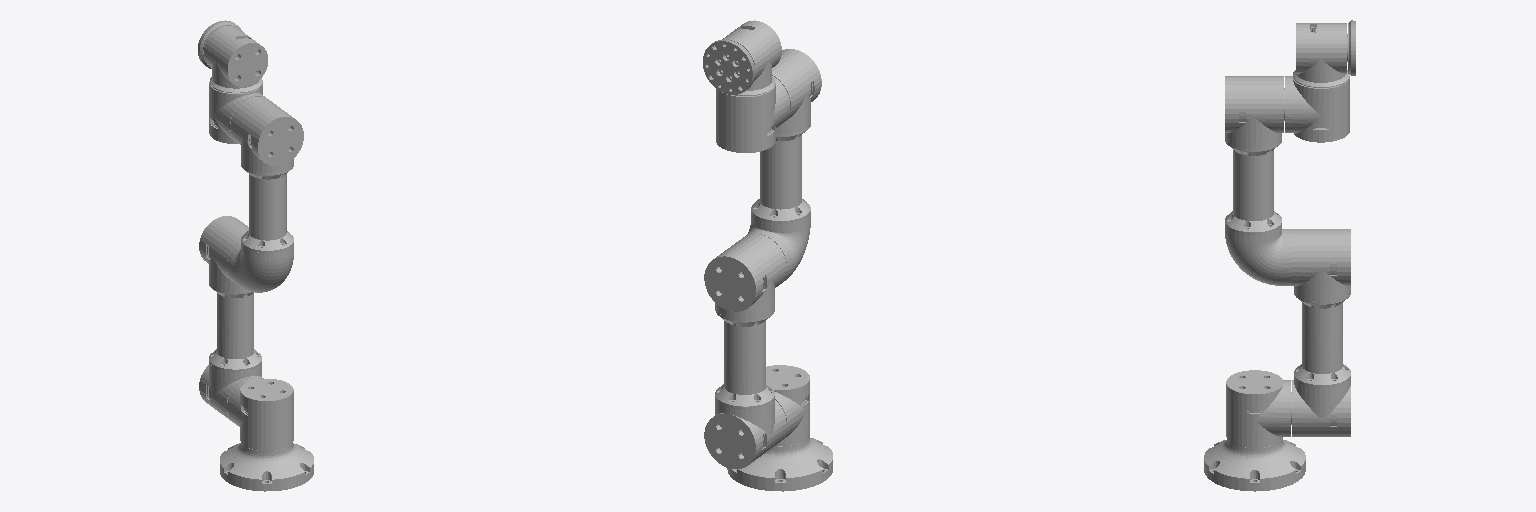
URDF robot description (EasyARM-A1):
<?xml version="1.0" encoding="utf-8"?>
<!-- This URDF was automatically created by SolidWorks to URDF Exporter! Originally created by Stephen Brawner (brawner@gmail.com) 
     Commit Version: 1.6.0-4-g7f85cfe  Build Version: 1.6.7995.38578
     For more information, please see http://wiki.ros.org/sw_urdf_exporter -->
<robot
  name="EasyARM-A1">
  <link
    name="base_link">
    <inertial>
      <origin
        xyz="2.5758E-10 -3.0493E-08 0.016711"
        rpy="0 0 0" />
      <mass
        value="0.24224" />
      <inertia
        ixx="0.00020254"
        ixy="-4.6091E-10"
        ixz="-2.9314E-13"
        iyy="0.00020254"
        iyz="4.519E-10"
        izz="0.00034674" />
    </inertial>
    <visual>
      <origin
        xyz="0 0 0"
        rpy="0 0 0" />
      <geometry>
        <mesh
          filename="../meshes/easyarm_h0521/base_link.STL" />
      </geometry>
      <material
        name="">
        <color
          rgba="0.75294 0.75294 0.75294 1" />
      </material>
    </visual>
    <collision>
      <origin
        xyz="0 0 0"
        rpy="0 0 0" />
      <geometry>
        <mesh
          filename="../meshes/easyarm_h0521/base_link.STL" />
      </geometry>
    </collision>
  </link>
  <link
    name="Link1">
    <inertial>
      <origin
        xyz="-7.21690131752495E-08 0.00511254917341276 -0.000356624091524357"
        rpy="0 0 0" />
      <mass
        value="0.216945425767562" />
      <inertia
        ixx="0.000122222116503187"
        ixy="5.53681437989864E-09"
        ixz="9.57637913979487E-12"
        iyy="0.000111674739393216"
        iyz="9.05616798141171E-06"
        izz="0.000121338206999658" />
    </inertial>
    <visual>
      <origin
        xyz="0 0 0"
        rpy="0 3.1416538 0" />
      <geometry>
        <mesh
          filename="../meshes/easyarm_h0521/Link1.STL" />
      </geometry>
      <material
        name="">
        <color
          rgba="0.752941176470588 0.752941176470588 0.752941176470588 1" />
      </material>
    </visual>
    <collision>
      <origin
        xyz="0 0 0"
        rpy="0 0 0" />
      <geometry>
        <mesh
          filename="../meshes/easyarm_h0521/Link1.STL" />
      </geometry>
    </collision>
  </link>
  <joint
    name="Joint1"
    type="revolute">
    <origin
      xyz="0 0 0.0734"
      rpy="0 3.1416538 0" />
    <parent
      link="base_link" />
    <child
      link="Link1" />
    <axis
      xyz="0 0 1" />
    <limit
      lower="-3.14"
      upper="3.14"
      effort="14"
      velocity="10.0" />
  </joint>
  <link
    name="Link2">
    <inertial>
      <origin
        xyz="-0.0900001466079373 -1.19272577925322E-10 0.000346086661850387"
        rpy="0 0 0" />
      <mass
        value="0.603194751552504" />
      <inertia
        ixx="0.000305081008734232"
        ixy="-1.14049880301079E-08"
        ixz="1.62033013066951E-09"
        iyy="0.000441332972917462"
        iyz="-3.0081989349051E-12"
        izz="0.00043974892225027" />
    </inertial>
    <visual>
      <origin
        xyz="0 0 0"
        rpy="0 0 0" />
      <geometry>
        <mesh
          filename="../meshes/easyarm_h0521/Link2.STL" />
      </geometry>
      <material
        name="">
        <color
          rgba="0.752941176470588 0.752941176470588 0.752941176470588 1" />
      </material>
    </visual>
    <collision>
      <origin
        xyz="0 0 0"
        rpy="0 0 0" />
      <geometry>
        <mesh
          filename="../meshes/easyarm_h0521/Link2.STL" />
      </geometry>
    </collision>
  </link>
  <joint
    name="Joint2"
    type="revolute">
    <origin
      xyz="0 0.073 0"
      rpy="-1.5708 -1.5708 0" />
    <parent
      link="Link1" />
    <child
      link="Link2" />
    <axis
      xyz="0 0 -1" />
    <limit
      lower="-3.14"
      upper="3.14"
      effort="14"
      velocity="10.0" />
  </joint>
  <link
    name="Link3">
    <inertial>
      <origin
        xyz="-0.105190051004392 3.55921223049727E-09 -0.0712241972170389"
        rpy="0 0 0" />
      <mass
        value="0.520405495271332" />
      <inertia
        ixx="0.000295545673533635"
        ixy="5.5014383773553E-09"
        ixz="-3.06046523464979E-05"
        iyy="0.000424271984084884"
        iyz="-7.78256962184493E-11"
        izz="0.000408163241167388" />
    </inertial>
    <visual>
      <origin
        xyz="0 0 0"
        rpy="0 0 0" />
      <geometry>
        <mesh
          filename="../meshes/easyarm_h0521/Link3.STL" />
      </geometry>
      <material
        name="">
        <color
          rgba="0.752941176470588 0.752941176470588 0.752941176470588 1" />
      </material>
    </visual>
    <collision>
      <origin
        xyz="0 0 0"
        rpy="0 0 0" />
      <geometry>
        <mesh
          filename="../meshes/easyarm_h0521/Link3.STL" />
      </geometry>
    </collision>
  </link>
  <joint
    name="Joint3"
    type="revolute">
    <origin
      xyz="-0.18 0 0"
      rpy="0 0 0" />
    <parent
      link="Link2" />
    <child
      link="Link3" />
    <axis
      xyz="0 0 1" />
    <limit
      lower="-3.14"
      upper="3.14"
      effort="14"
      velocity="10.0" />
  </joint>
  <link
    name="Link4">
    <inertial>
      <origin
        xyz="-0.000356625278989775 8.17763373892055E-08 -0.0664878530923041"
        rpy="0 0 0" />
      <mass
        value="0.216945440762847" />
      <inertia
        ixx="0.000121338182503669"
        ixy="6.65208368822259E-11"
        ixz="9.05779382020489E-06"
        iyy="0.000122222111877508"
        iyz="5.52779112970944E-09"
        izz="0.000111674732516474" />
    </inertial>
    <visual>
      <origin
        xyz="0 0 0"
        rpy="0 0 0" />
      <geometry>
        <mesh
          filename="../meshes/easyarm_h0521/Link4.STL" />
      </geometry>
      <material
        name="">
        <color
          rgba="0.752941176470588 0.752941176470588 0.752941176470588 1" />
      </material>
    </visual>
    <collision>
      <origin
        xyz="0 0 0"
        rpy="0 0 0" />
      <geometry>
        <mesh
          filename="../meshes/easyarm_h0521/Link4.STL" />
      </geometry>
    </collision>
  </link>
  <joint
    name="Joint4"
    type="revolute">
    <origin
      xyz="-0.182 0 -0.073"
      rpy="3.1416 0 0" />
    <parent
      link="Link3" />
    <child
      link="Link4" />
    <axis
      xyz="0 0 1" />
    <limit
      lower="-3.14"
      upper="3.14"
      effort="14"
      velocity="10.0" />
  </joint>
  <link
    name="Link5">
    <inertial>
      <origin
        xyz="1.95555779521628E-05 -0.00178155268725853 -0.0601366457896128"
        rpy="0 0 0" />
      <mass
        value="0.124888279561139" />
      <inertia
        ixx="6.41730718145436E-05"
        ixy="1.75318703995971E-08"
        ixz="1.07754540082814E-07"
        iyy="6.93104037102666E-05"
        iyz="-4.0944501597028E-06"
        izz="5.6932382543505E-05" />
    </inertial>
    <visual>
      <origin
        xyz="0 0 0"
        rpy="0 0 0" />
      <geometry>
        <mesh
          filename="../meshes/easyarm_h0521/Link5.STL" />
      </geometry>
      <material
        name="">
        <color
          rgba="0.752941176470588 0.752941176470588 0.752941176470588 1" />
      </material>
    </visual>
    <collision>
      <origin
        xyz="0 0 0"
        rpy="0 0 0" />
      <geometry>
        <mesh
          filename="../meshes/easyarm_h0521/Link5.STL" />
      </geometry>
    </collision>
  </link>
  <joint
    name="Joint5"
    type="revolute">
    <origin
      xyz="0 0 -0.0716"
      rpy="-1.5708 0 -1.5708" />
    <parent
      link="Link4" />
    <child
      link="Link5" />
    <axis
      xyz="0 0 1" />
    <limit
      lower="-3.14"
      upper="3.14"
      effort="14"
      velocity="10.0" />
  </joint>
  <link
    name="Link6">
    <inertial>
      <origin
        xyz="-1.11022302462516E-16 -9.71445146547012E-17 0.00464068031768159"
        rpy="0 0 0" />
      <mass
        value="0.0271942674179733" />
      <inertia
        ixx="6.16097454689578E-06"
        ixy="-1.2061822248802E-21"
        ixz="-4.55724760093419E-21"
        iyy="6.16097454689578E-06"
        iyz="1.05879118406788E-20"
        izz="1.19367922017072E-05" />
    </inertial>
    <visual>
      <origin
        xyz="0 0 0"
        rpy="0 0 0" />
      <geometry>
        <mesh
          filename="../meshes/easyarm_h0521/Link6.STL" />
      </geometry>
      <material
        name="">
        <color
          rgba="0.698039215686274 0.698039215686274 0.698039215686274 1" />
      </material>
    </visual>
    <collision>
      <origin
        xyz="0 0 0"
        rpy="0 0 0" />
      <geometry>
        <mesh
          filename="../meshes/easyarm_h0521/Link6.STL" />
      </geometry>
    </collision>
  </link>
  <joint
    name="Joint6"
    type="revolute">
    <origin
      xyz="0 0.0375 -0.067"
      rpy="1.5708 -1.5708 0" />
    <parent
      link="Link5" />
    <child
      link="Link6" />
    <axis
      xyz="0 0 1" />
    <limit
      lower="-3.14"
      upper="3.14"
      effort="6"
      velocity="10.0" />
  </joint>
</robot>

--- Facts derived from the render (not from the file) ---
Views: 3 orthographic renders of the robot side by side, from view 1: azimuth 30°, elevation 25°; view 2: azimuth 150°, elevation 25°; view 3: azimuth 270°, elevation 25°.
Robot: EasyARM-A1 — 7 links, 6 joints (6 revolute); root link base_link; default pose: every joint at zero.
Visible links, largest first — view 1: Link3, Link2, Link1, base_link, Link5, Link4; view 2: Link2, Link3, Link4, base_link, Link1, Link6, Link5; view 3: Link2, Link3, Link1, base_link, Link4, Link5.
Boxes of the visible links, bbox=[...] form: Link3: bbox=[227, 97, 303, 292]; Link2: bbox=[199, 216, 263, 420]; Link1: bbox=[227, 377, 293, 450]; base_link: bbox=[220, 443, 313, 491]; Link5: bbox=[204, 26, 267, 92]; Link4: bbox=[209, 83, 265, 143]; Link2: bbox=[704, 234, 786, 468]; Link3: bbox=[746, 49, 821, 283]; Link4: bbox=[716, 76, 789, 152]; base_link: bbox=[727, 436, 832, 491]; Link1: bbox=[766, 365, 809, 445]; Link6: bbox=[703, 39, 754, 94]; Link5: bbox=[722, 20, 781, 95]; Link2: bbox=[1292, 229, 1350, 436]; Link3: bbox=[1225, 76, 1291, 285]; Link1: bbox=[1226, 370, 1291, 447]; base_link: bbox=[1204, 439, 1305, 491]; Link4: bbox=[1284, 76, 1349, 142]; Link5: bbox=[1293, 23, 1349, 87].
Bounding box of the posed robot: 0.11 × 0.1641 × 0.5324 m (x, y, z).
Meshes: 7 distinct files referenced, 7 mesh visuals loaded (7 binary STL).
